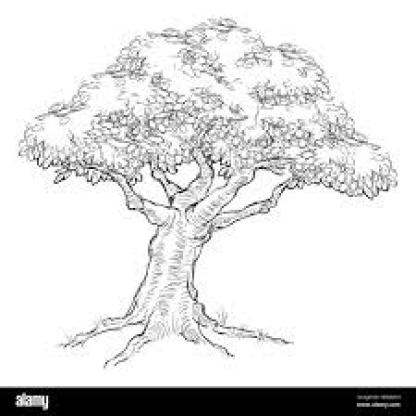branch_cut: (97, 149, 297, 231)
crown_dizzy: (14, 13, 398, 202)
root_only: (62, 307, 301, 370)
trunk_bark: (134, 235, 219, 308)
